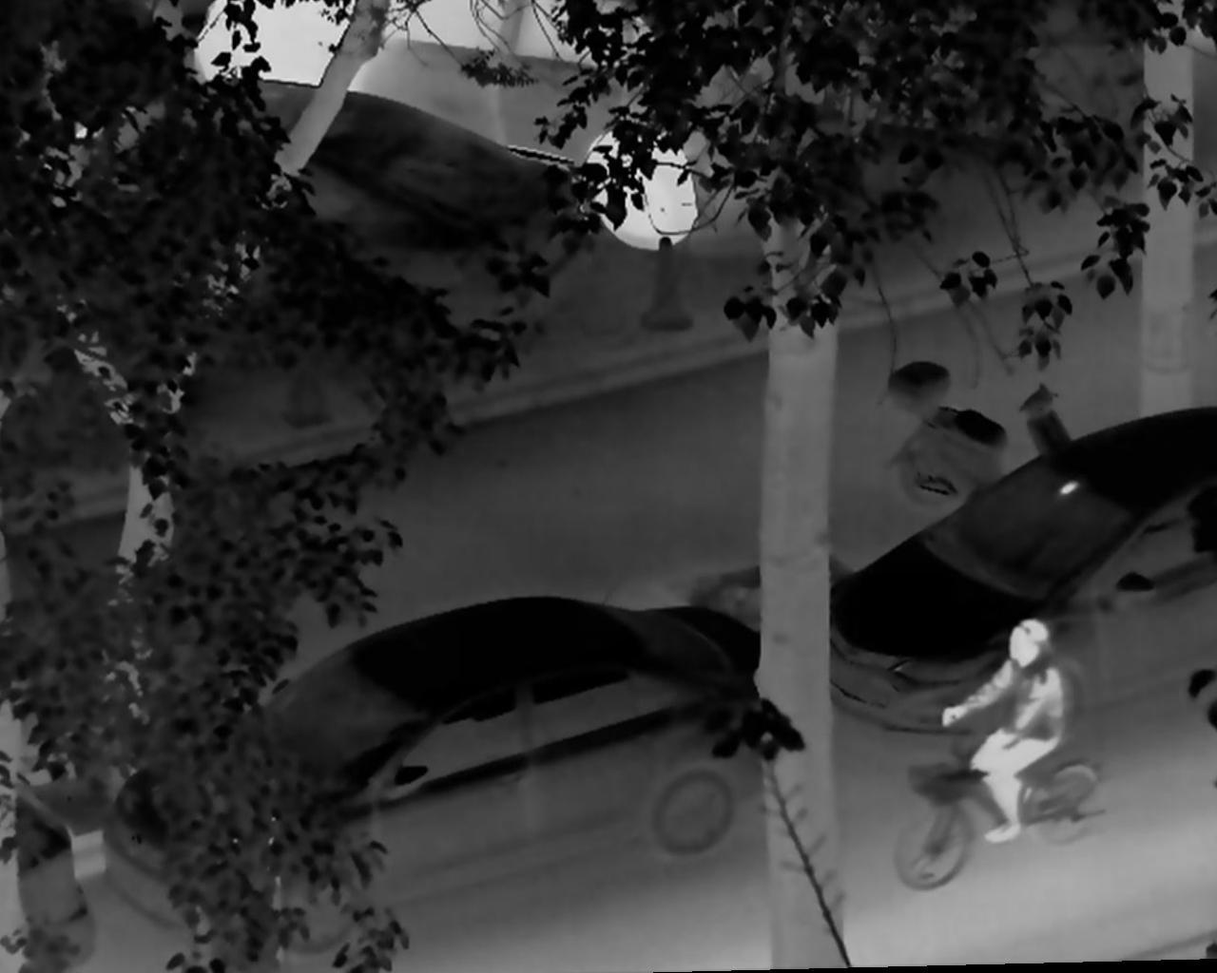person: (936, 617, 1064, 848)
